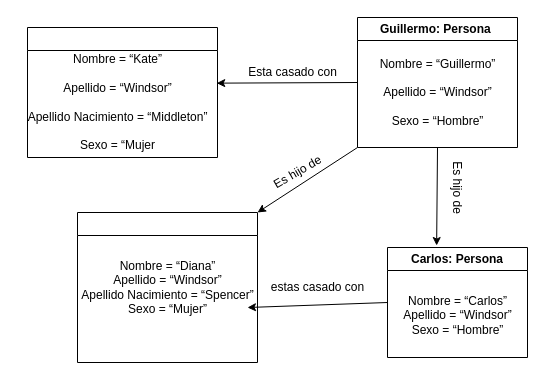
This 545x380 diagram has some shape labels left out. Here are the shapes that lost their labels. From the top down, the box of each, then its label:
(26, 26, 218, 158): Kate: Persona
(76, 212, 258, 362): Diana: Persona
